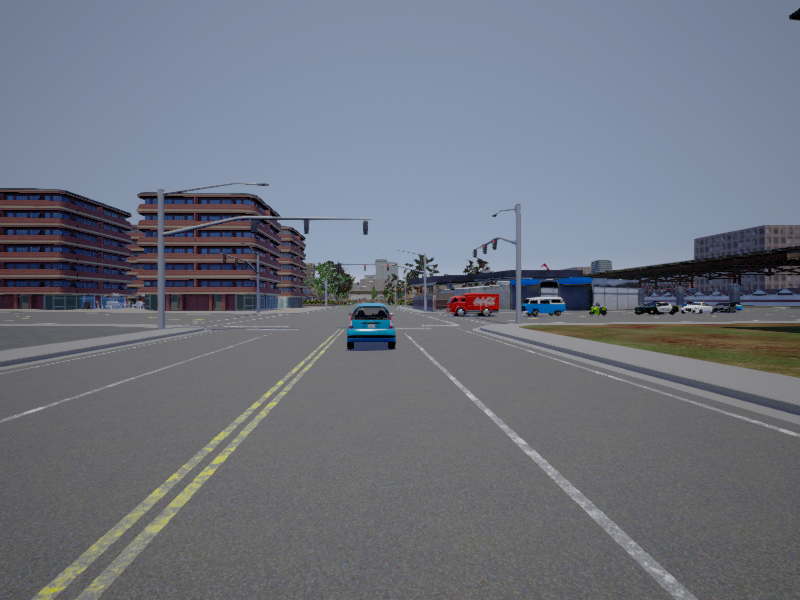Benign: (349, 301, 397, 349), (449, 293, 500, 316), (635, 297, 677, 318), (522, 297, 567, 315), (680, 299, 715, 317), (716, 300, 739, 316)
